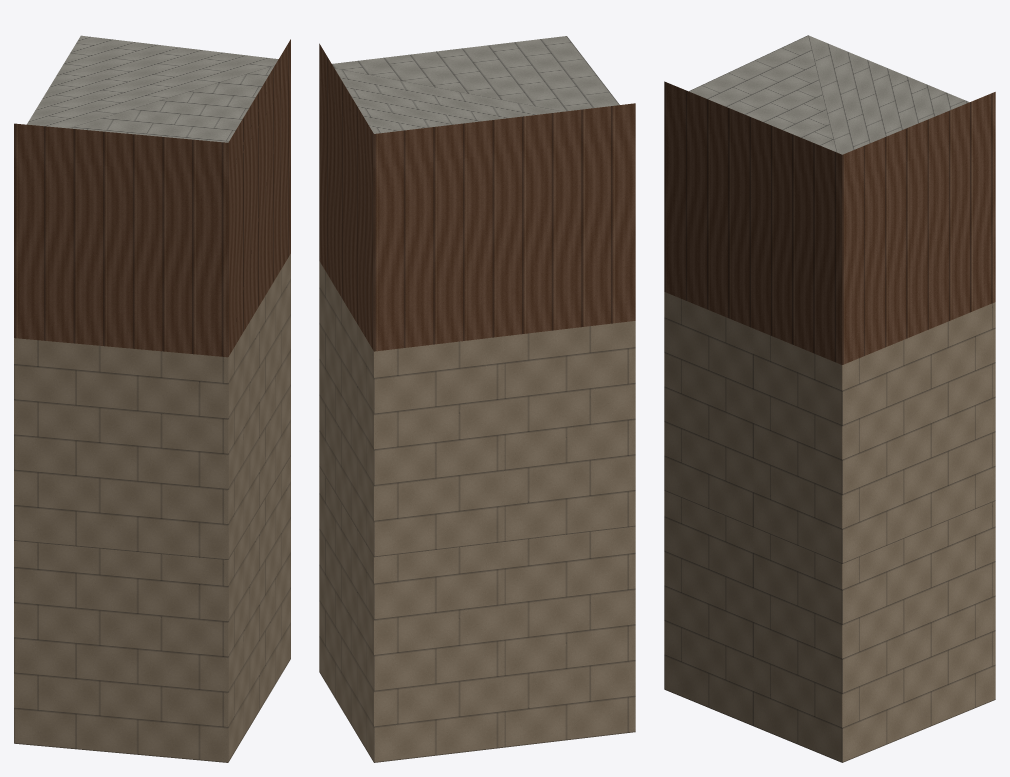
The model's file is bld_c3_6_492.gltf.
3 renders of one model, left to right at view 1: azimuth 30°, elevation 25°; view 2: azimuth 150°, elevation 25°; view 3: azimuth 270°, elevation 25°, orthographic. The views are drawn at different scales.
Parts seen in each view (by area): view 1: bld_c3_6_492; view 2: bld_c3_6_492; view 3: bld_c3_6_492.
Boxes of the visible parts, x1,y1,x2,y2 form: bld_c3_6_492: (14,35,290,762); bld_c3_6_492: (319,36,635,762); bld_c3_6_492: (664,35,995,762).
Bounding box in the file's own units: 3.42 × 6.88 × 3.4.
4 materials, 4 textured.
